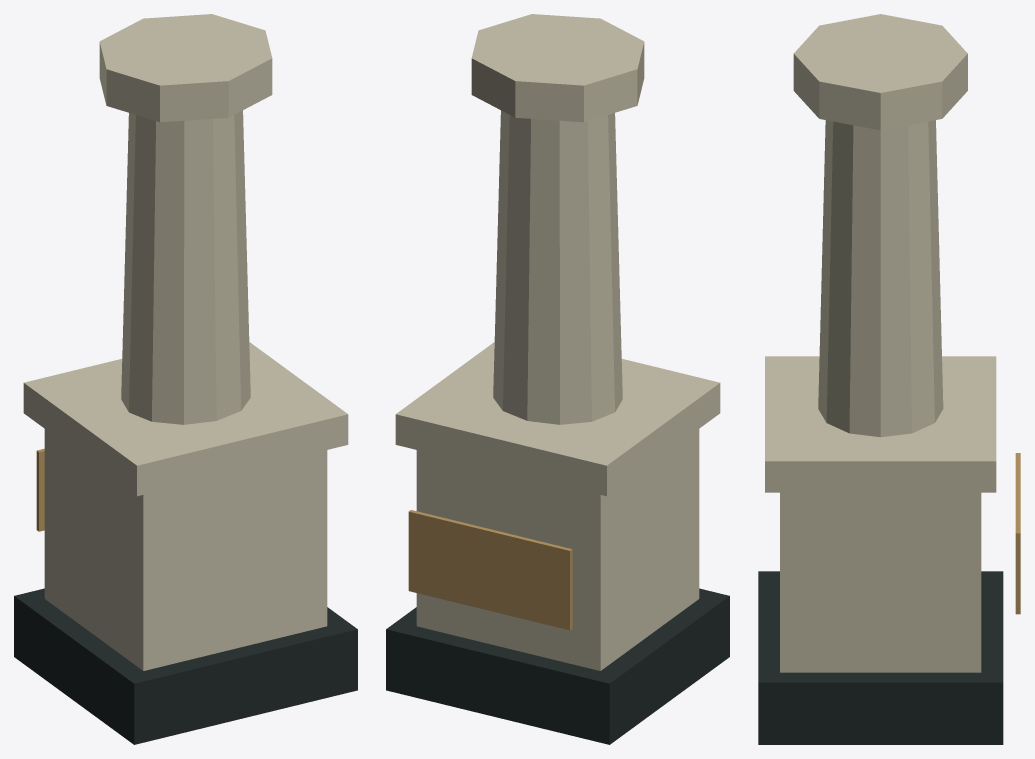
Rendered from LP_GreeceRome_CornerFeature.fbx.
The picture shows the model from 3 angles, left to right: view 1: azimuth 30°, elevation 25°; view 2: azimuth 150°, elevation 25°; view 3: azimuth 270°, elevation 25°; orthographic projection.
Visible parts, largest first — view 1: M_Central_Limestone, Charcoal, AgedBrass; view 2: M_Central_Limestone, Charcoal, AgedBrass; view 3: M_Central_Limestone, Charcoal, AgedBrass.
Part boxes in pixels (box(x1,y1,x2,y2)): M_Central_Limestone: box(23, 14, 348, 670); Charcoal: box(14, 588, 357, 744); AgedBrass: box(36, 448, 44, 531); M_Central_Limestone: box(395, 14, 720, 670); Charcoal: box(386, 588, 729, 744); AgedBrass: box(408, 510, 572, 630); M_Central_Limestone: box(765, 14, 996, 672); Charcoal: box(758, 571, 1003, 744); AgedBrass: box(1015, 453, 1020, 614).
Bounding box in the file's own units: 75 × 200 × 74.77.
